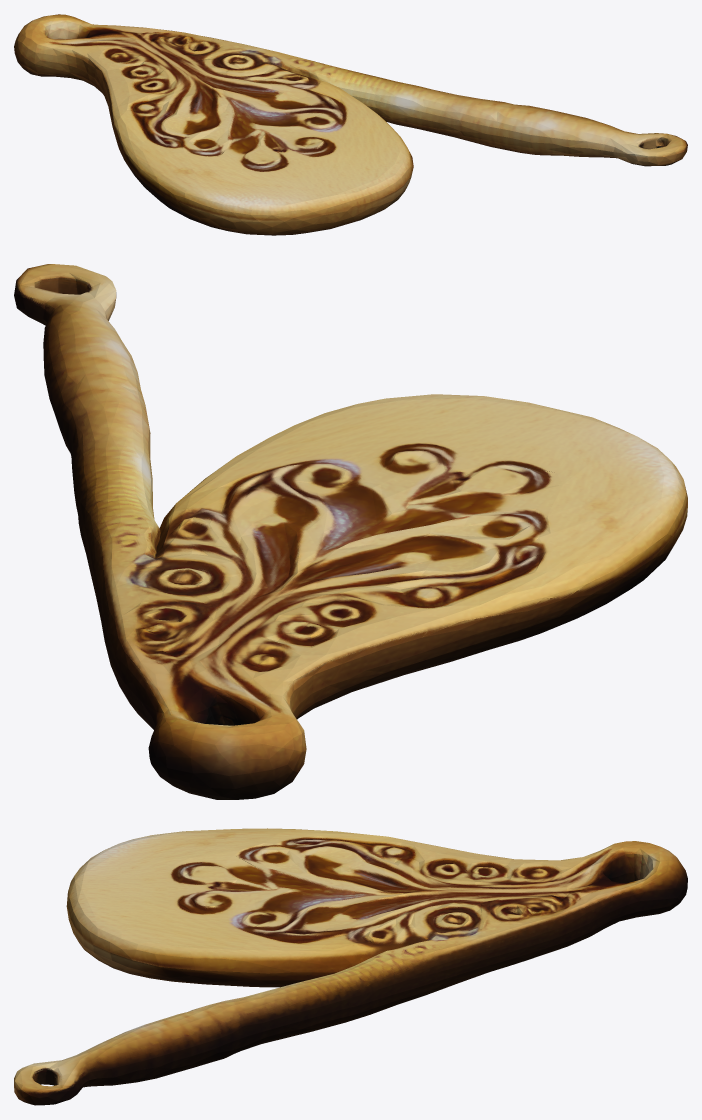
The model's file is wooden-crochet-hook-rustic.jpeg.glb.
3 renders of one model, top to bottom at view 1: azimuth 30°, elevation 25°; view 2: azimuth 150°, elevation 25°; view 3: azimuth 270°, elevation 25°, orthographic. The views are drawn at different scales.
Parts seen in each view (by area): view 1: world; view 2: world; view 3: world.
Part boxes in pixels (x1,y1,x2,y2): world: (14,14,687,235); world: (14,264,687,799); world: (14,828,687,1105).
Size of the model in its own units: 0.9037 by 0.0912 by 1.
1 material, 1 textured.
